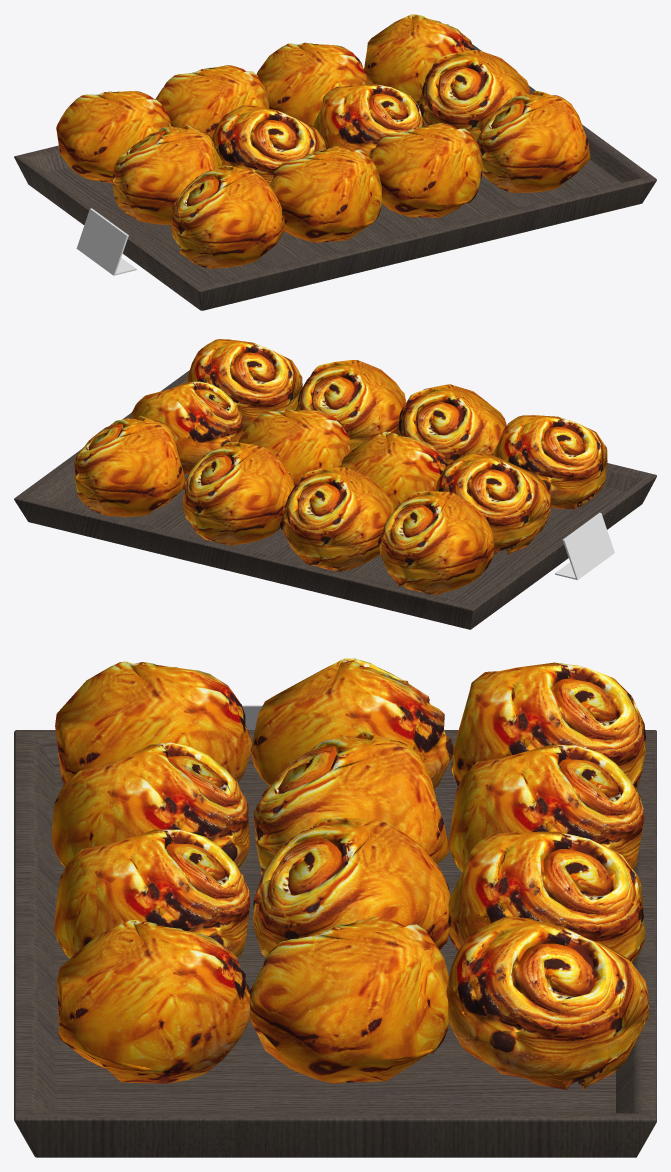
The model's file is bun.glb.
3 views of the same model, one above another, from view 1: azimuth 30°, elevation 25°; view 2: azimuth 150°, elevation 25°; view 3: azimuth 270°, elevation 25° (orthographic). The views are drawn at different scales.
Parts seen in each view (by area): view 1: _3DGeom2.007, _3DGeom112.011, _3DGeom112.009, _3DGeom112.006, _3DGeom112.003, _3DGeom112.012, _3DGeom112.001, _3DGeom112.010, _3DGeom112.007, _3DGeom112.004, _3DGeom112.005, _3DGeom112.008 (+2 smaller); view 2: _3DGeom2.007, _3DGeom112.001, _3DGeom112.007, _3DGeom112.002, _3DGeom112.008, _3DGeom112.011, _3DGeom112.012, _3DGeom112.009, _3DGeom112.006, _3DGeom112.003, _3DGeom112.010, _3DGeom112.005 (+2 smaller); view 3: _3DGeom2.007, _3DGeom112.008, _3DGeom112.010, _3DGeom112.009, _3DGeom112.005, _3DGeom112.006, _3DGeom112.007, _3DGeom112.003, _3DGeom112.011, _3DGeom112.002, _3DGeom112.001, _3DGeom112.004 (+1 smaller).
Boxes of the visible parts, x1,y1,x2,y2 form: _3DGeom2.007: (14,44,656,310); _3DGeom112.011: (171,165,284,268); _3DGeom112.009: (477,90,590,192); _3DGeom112.006: (369,123,482,217); _3DGeom112.003: (270,146,382,242); _3DGeom112.012: (113,125,221,224); _3DGeom112.001: (56,91,170,183); _3DGeom112.010: (418,50,530,143); _3DGeom112.007: (256,42,367,126); _3DGeom112.004: (212,105,326,184); _3DGeom112.005: (312,84,424,156); _3DGeom112.008: (364,14,474,105); _3DGeom2.007: (14,370,656,629); _3DGeom112.001: (378,491,494,594); _3DGeom112.007: (182,442,295,545); _3DGeom112.002: (280,467,393,571); _3DGeom112.008: (74,415,185,516); _3DGeom112.011: (493,415,607,509); _3DGeom112.012: (435,452,550,555); _3DGeom112.009: (186,339,302,433); _3DGeom112.006: (296,360,406,450); _3DGeom112.003: (396,384,506,463); _3DGeom112.010: (131,381,242,473); _3DGeom112.005: (238,409,351,484); _3DGeom2.007: (14,730,656,1157); _3DGeom112.008: (446,916,649,1090); _3DGeom112.010: (249,916,448,1083); _3DGeom112.009: (57,920,250,1083); _3DGeom112.005: (253,817,450,956); _3DGeom112.006: (54,829,249,958); _3DGeom112.007: (448,831,645,963); _3DGeom112.003: (52,742,250,868); _3DGeom112.011: (55,661,252,783); _3DGeom112.002: (448,744,643,871); _3DGeom112.001: (451,662,645,789); _3DGeom112.004: (253,731,449,874).
Bounding box in the file's own units: 0.5806 × 0.1108 × 0.3869.
Materials: 3 (2 with a texture image).
